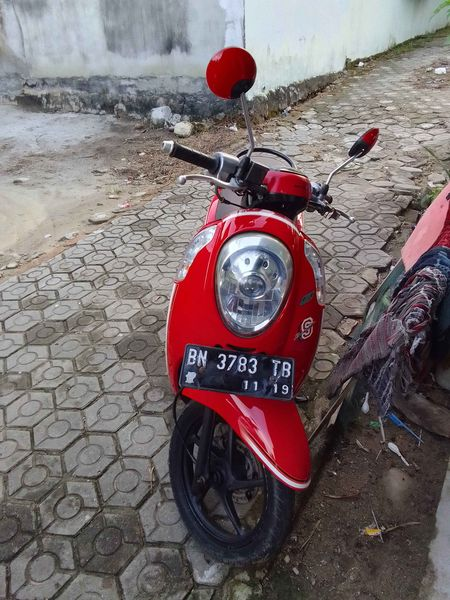plate: (182, 340, 302, 401)
